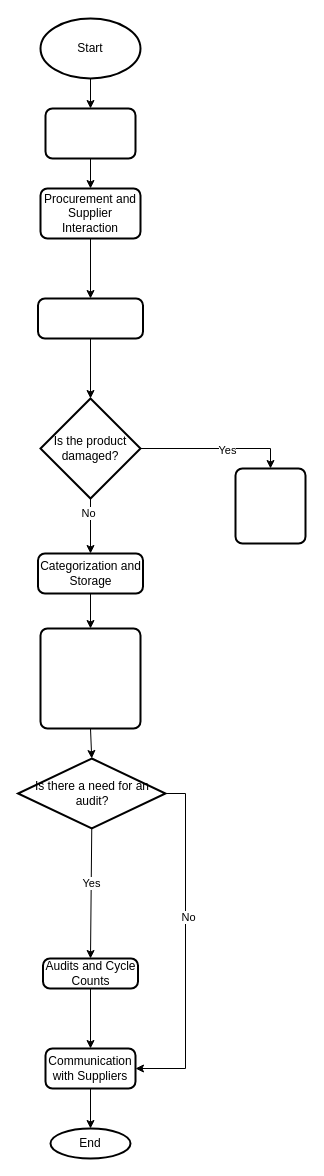
Some shapes in this 324 by 1176 pixel diagram are drawn without their labels. The centre of each missing label's shape, as x and y in pixels:
"Analysis of Sales Data and Trends" belongs at (x=90, y=133).
"Handling of damaged goods" belongs at (x=270, y=505).
"Inventory Management Software Updates" belongs at (x=90, y=678).
"Quality Control and Receipt of Goods" belongs at (x=90, y=318).
